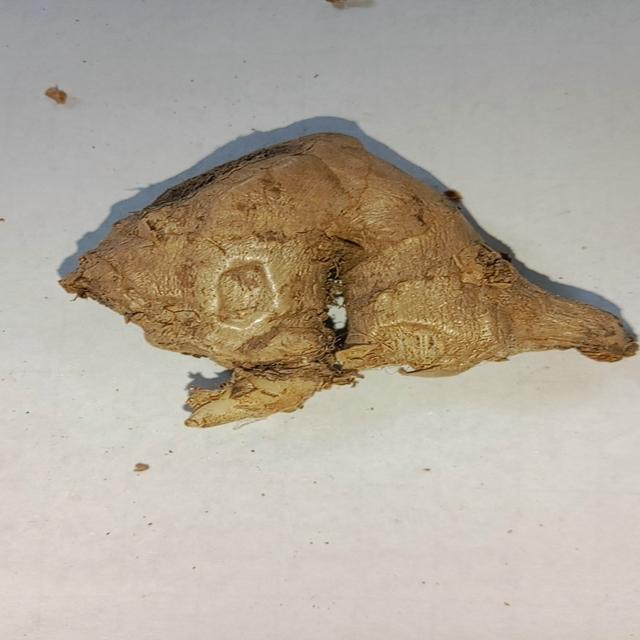ginger: (55, 140, 630, 433)
